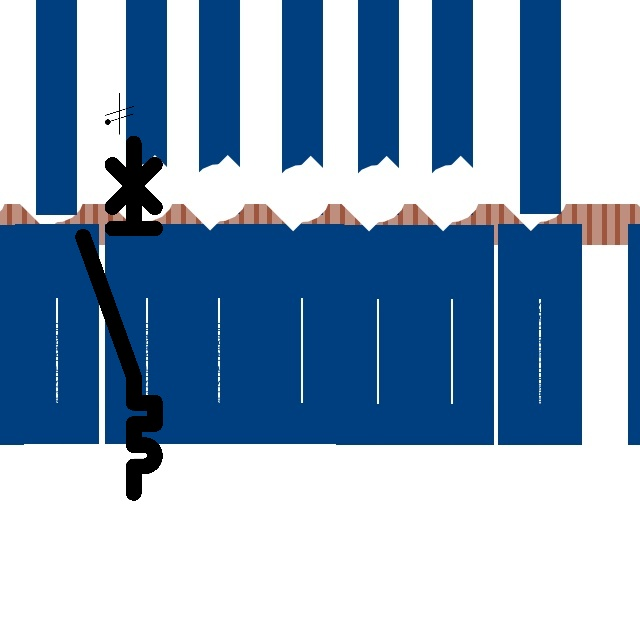interruptor_termomagnetico: (74, 134, 164, 502)
